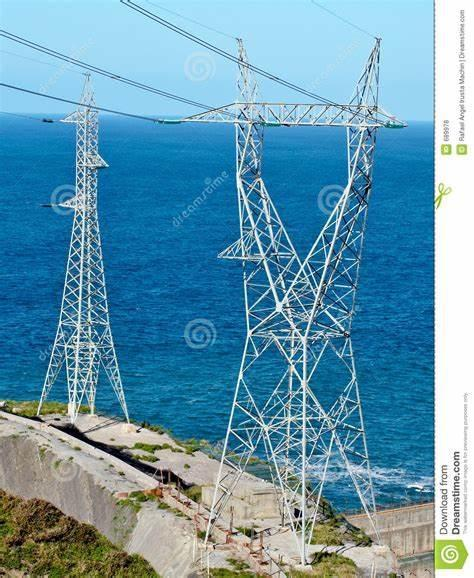power_tower: (161, 39, 400, 564), (38, 70, 133, 437)
